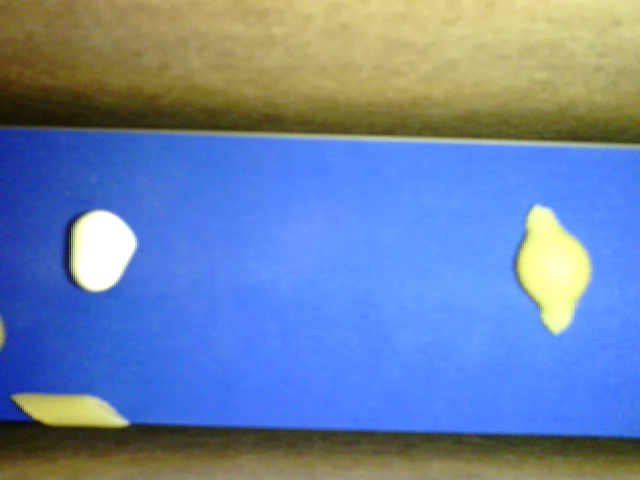elbow: (515, 204, 592, 336)
penne: (11, 394, 130, 428)
